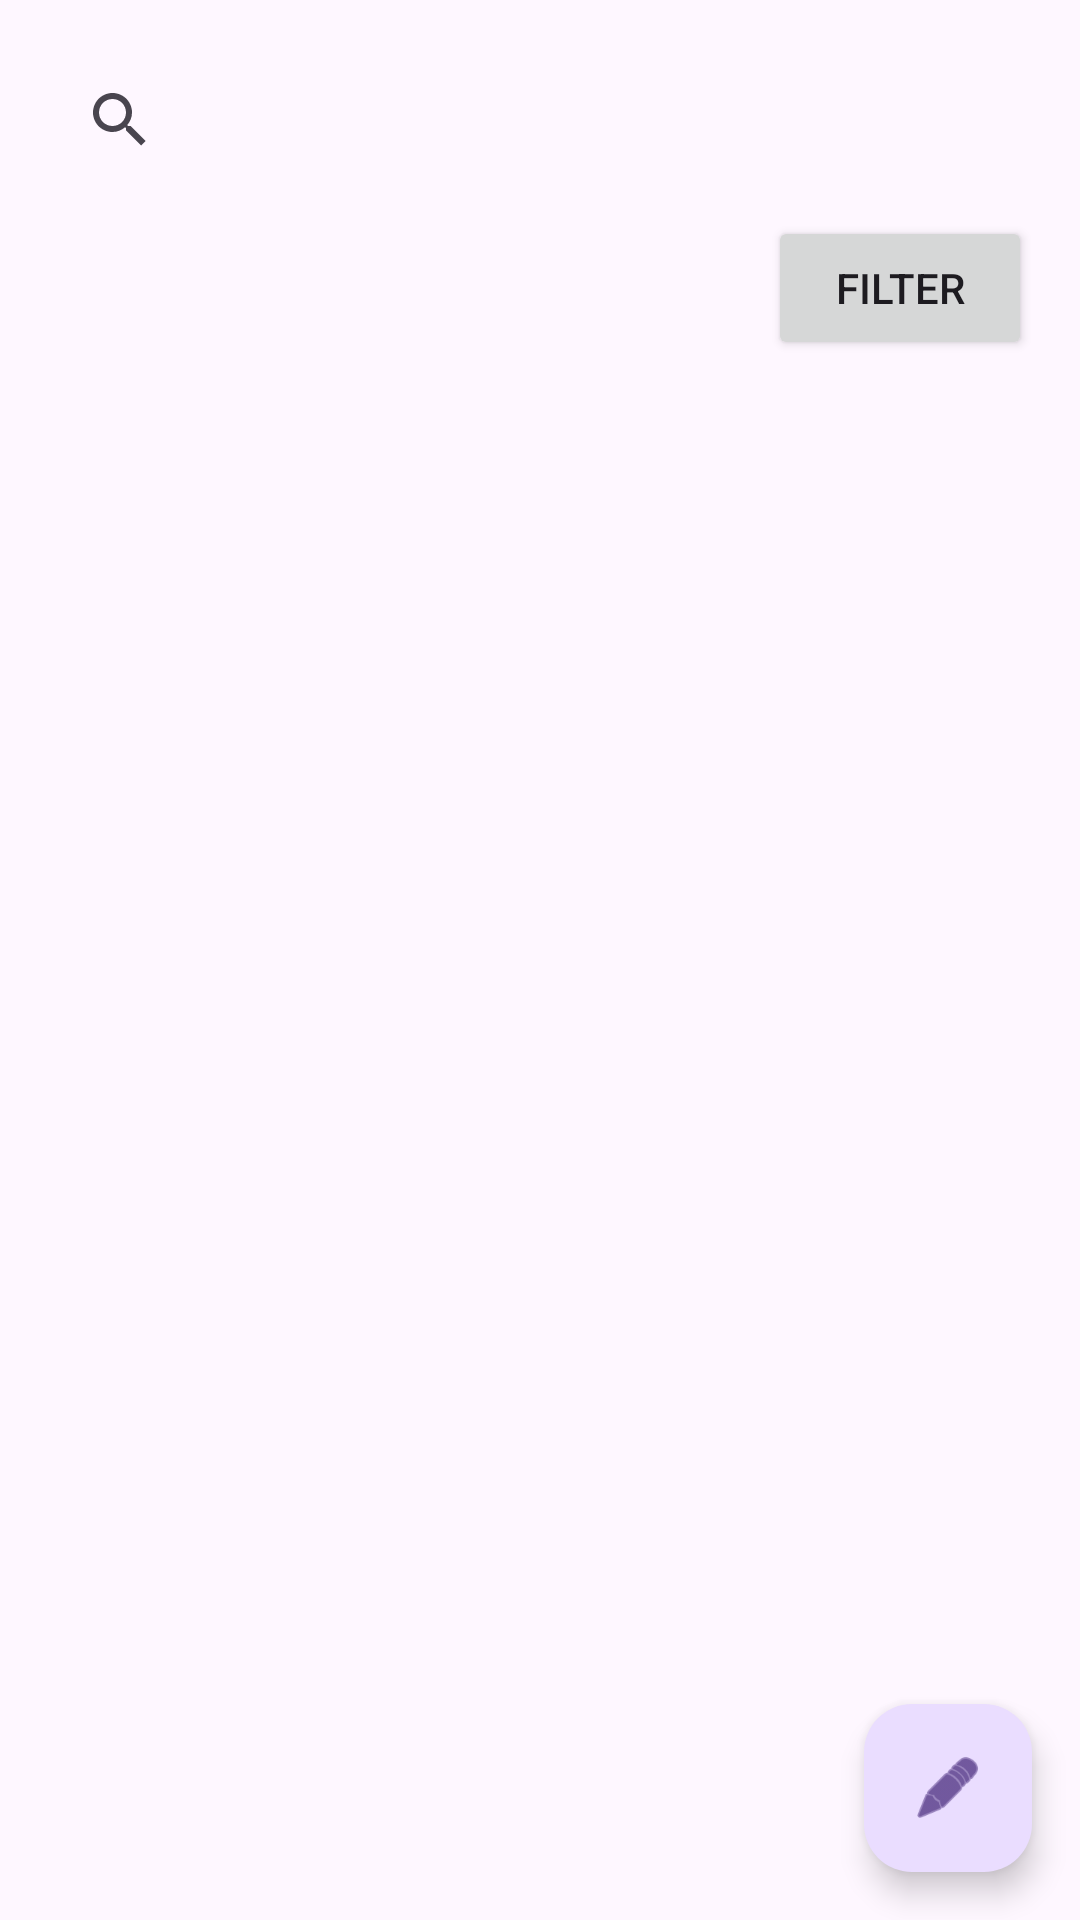

Named icons in this screenshot (1080px×1920px) and their centers, (x,y):
Rezept hinzufügen: (948,1788)
